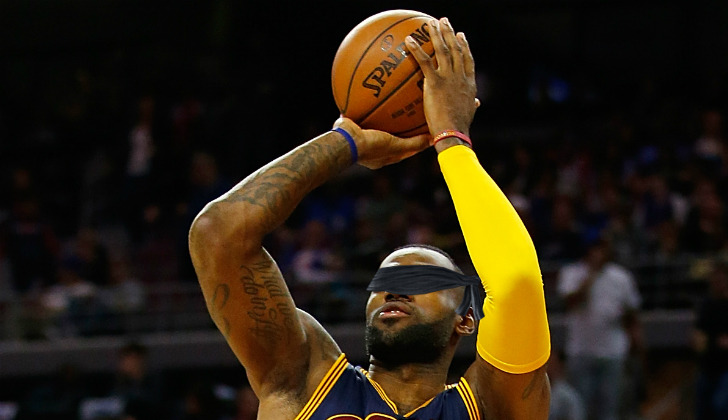Basketball: (326, 9, 433, 142)
